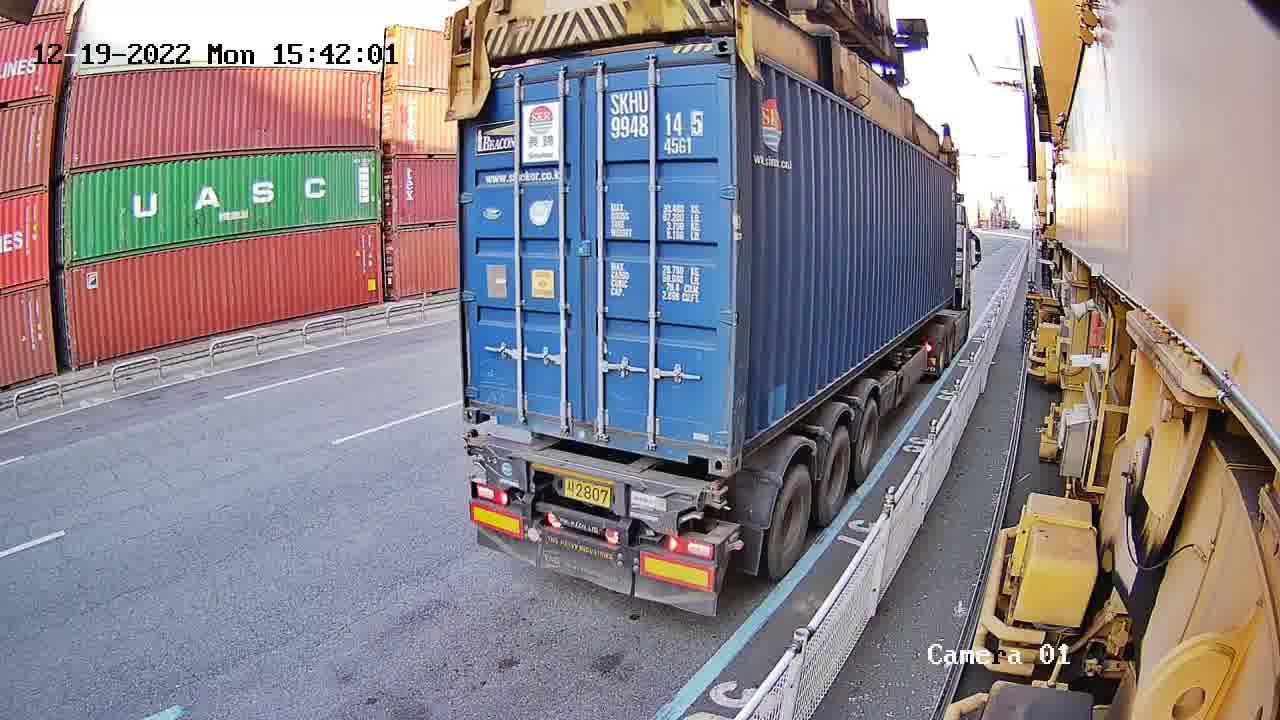Chassis: (466, 442, 710, 530)
Cone: (705, 480, 727, 508), (464, 427, 477, 457)
Hole_L: (727, 412, 758, 475), (462, 384, 501, 423)
Hole_R: (679, 424, 730, 475)
Tire: (769, 470, 813, 575), (820, 432, 851, 519), (853, 403, 879, 476)
